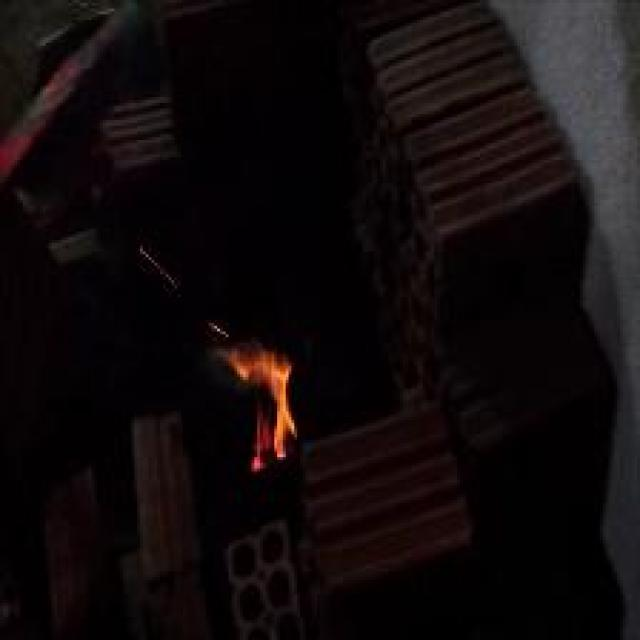Fire: (220, 343, 297, 471)
